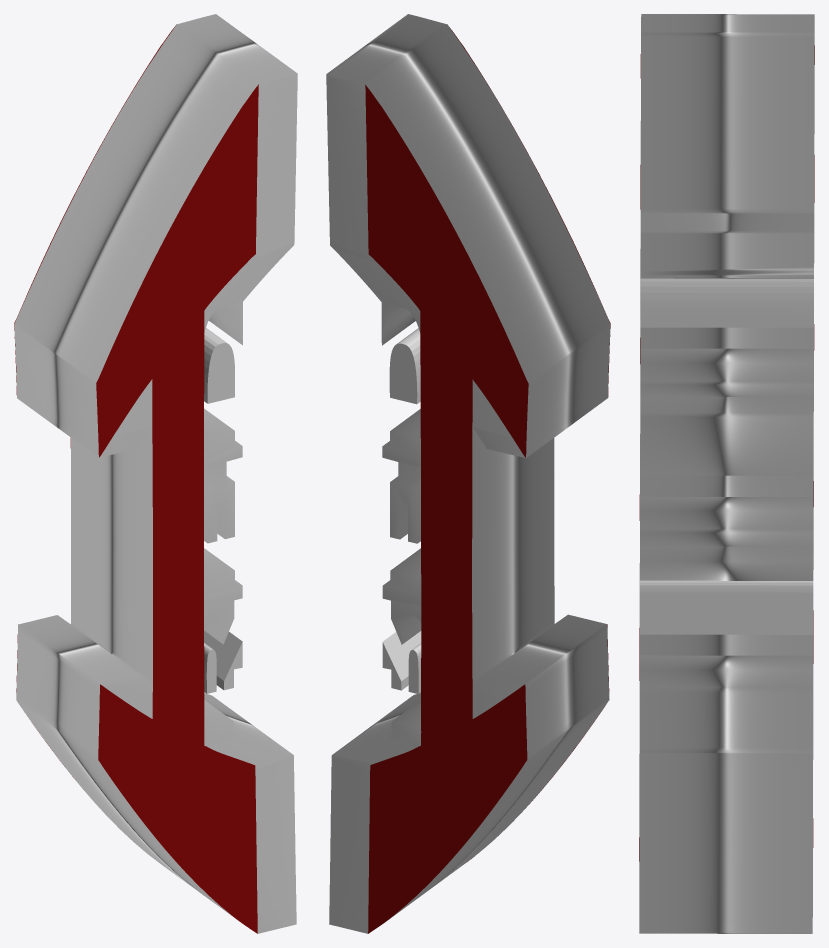
The model's file is redeye-3d-test.glb.
3 views of the same model, side by side, from view 1: azimuth 30°, elevation 25°; view 2: azimuth 150°, elevation 25°; view 3: azimuth 270°, elevation 25° (orthographic). The views are drawn at different scales.
Parts seen in each view (by area): view 1: Curve, Curve.004, Curve.001, Curve.003, Curve.002; view 2: Curve, Curve.005, Curve.001, Curve.003, Curve.002; view 3: Curve, Curve.001, Curve.003, Curve.002.
Boxes of the visible parts, x1=… form: Curve: x1=14, y1=14, x2=297, y2=933; Curve.004: x1=96, y1=84, x2=258, y2=933; Curve.001: x1=204, y1=328, x2=234, y2=403; Curve.003: x1=204, y1=630, x2=242, y2=690; Curve.002: x1=204, y1=643, x2=216, y2=693; Curve: x1=326, y1=14, x2=610, y2=933; Curve.005: x1=365, y1=84, x2=528, y2=933; Curve.001: x1=389, y1=328, x2=420, y2=404; Curve.003: x1=382, y1=631, x2=421, y2=690; Curve.002: x1=408, y1=643, x2=421, y2=693; Curve: x1=639, y1=14, x2=814, y2=933; Curve.001: x1=640, y1=278, x2=813, y2=327; Curve.003: x1=639, y1=592, x2=813, y2=634; Curve.002: x1=639, y1=580, x2=813, y2=624.
Bounding box in the file's own units: 0.9906 × 3.98 × 0.704.
